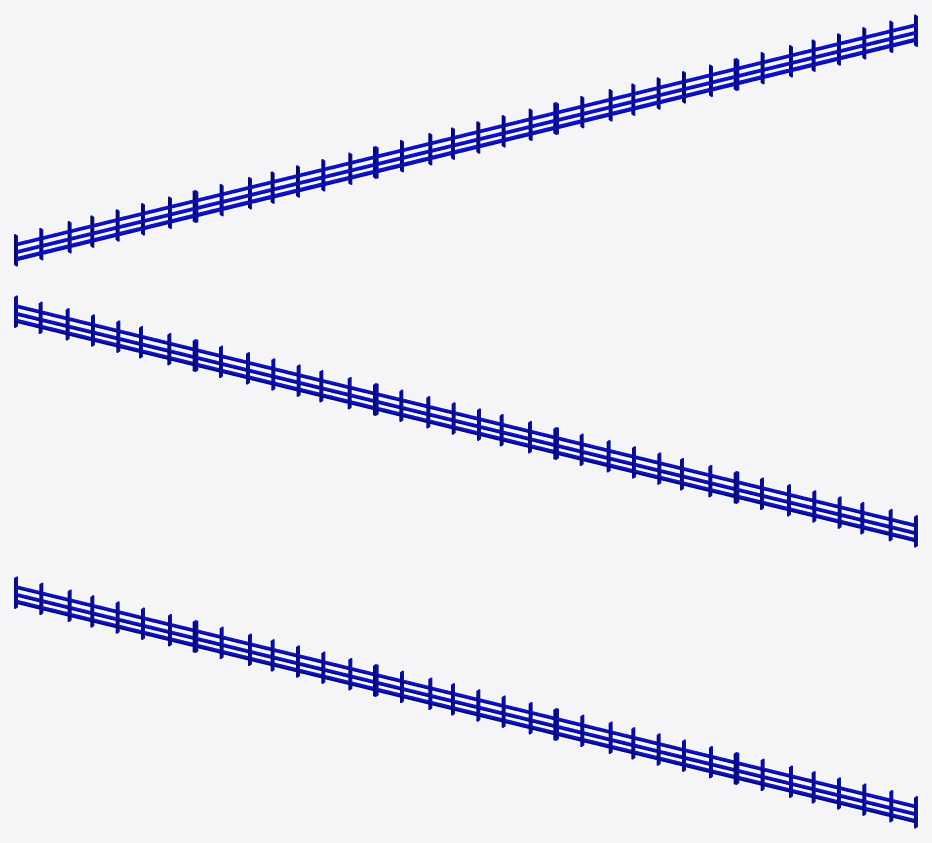
File: plane.020_lev3.glb
3 views of the same model, one above another, from view 1: azimuth 30°, elevation 25°; view 2: azimuth 150°, elevation 25°; view 3: azimuth 330°, elevation 25° (orthographic).
Visible parts, largest first — view 1: plane.020_lev3; view 2: plane.020_lev3; view 3: plane.020_lev3.
Part boxes in pixels (bbox=[...]): plane.020_lev3: bbox=[14, 14, 917, 266]; plane.020_lev3: bbox=[14, 295, 917, 547]; plane.020_lev3: bbox=[14, 576, 917, 828].
Size of the model in its own units: 12.07 by 0.3895 by 0.0571.
